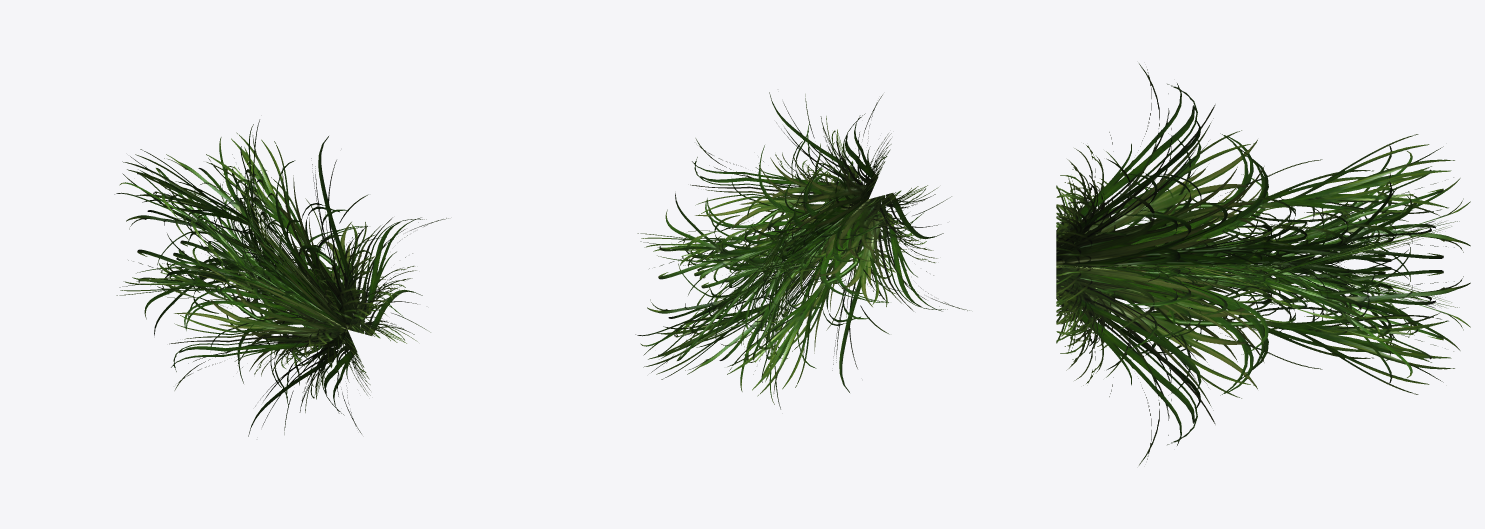
File: fixedGrass.fbx
The picture shows the model from 3 angles, left to right: view 1: azimuth 30°, elevation 25°; view 2: azimuth 150°, elevation 25°; view 3: azimuth 270°, elevation 25°; orthographic projection. The views are drawn at different scales.
Visible parts, largest first — view 1: group_4; view 2: group_4; view 3: group_4.
Boxes of the visible parts, x1=… form: group_4: x1=114, y1=119, x2=448, y2=436; group_4: x1=635, y1=92, x2=969, y2=409; group_4: x1=1056, y1=63, x2=1470, y2=465.
Bounding box in the file's own units: 87.84 × 87.84 × 83.43.
Materials: 1 (1 with a texture image).
